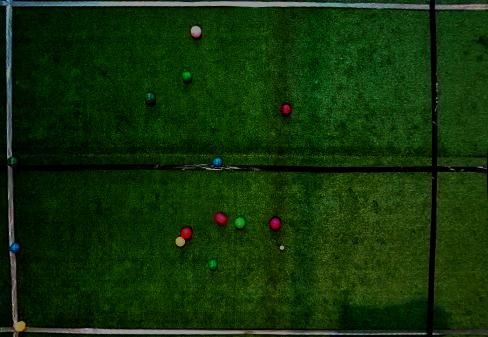blue: (9, 242, 22, 253), (212, 156, 223, 167)
green: (234, 217, 245, 229), (145, 91, 155, 104), (7, 157, 19, 167), (208, 258, 218, 270), (182, 71, 192, 82)
red: (214, 213, 228, 225), (269, 217, 281, 230), (190, 25, 202, 38), (180, 227, 192, 239), (281, 104, 291, 115)
vline: (426, 1, 488, 336), (0, 1, 14, 155), (0, 254, 20, 322), (0, 167, 15, 242)
white: (280, 245, 284, 250)
yellow: (15, 321, 26, 332), (175, 236, 185, 247)
